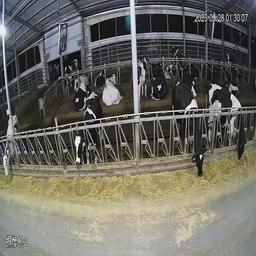cow: (173, 76, 205, 197), (206, 77, 246, 171), (71, 91, 106, 187), (3, 105, 34, 187), (99, 68, 124, 107), (70, 71, 93, 109), (152, 63, 170, 106), (138, 46, 149, 103), (173, 44, 186, 74), (63, 55, 80, 75), (222, 44, 234, 66), (193, 55, 205, 74)
